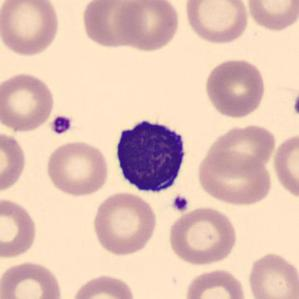Lymphocyte: (108, 111, 192, 197)
Platelets: (50, 113, 74, 136), (171, 194, 190, 214), (290, 89, 299, 121)
RBC: (194, 149, 274, 207), (90, 190, 159, 257), (166, 205, 240, 267), (202, 56, 267, 120), (43, 138, 111, 198), (204, 122, 278, 175), (115, 0, 182, 53), (0, 0, 62, 57), (0, 71, 57, 133), (79, 0, 145, 50), (182, 0, 251, 45), (0, 259, 65, 299), (245, 250, 298, 299), (0, 195, 39, 261), (182, 267, 248, 299), (271, 129, 298, 202), (0, 128, 28, 196), (69, 272, 137, 299), (245, 0, 298, 33)
